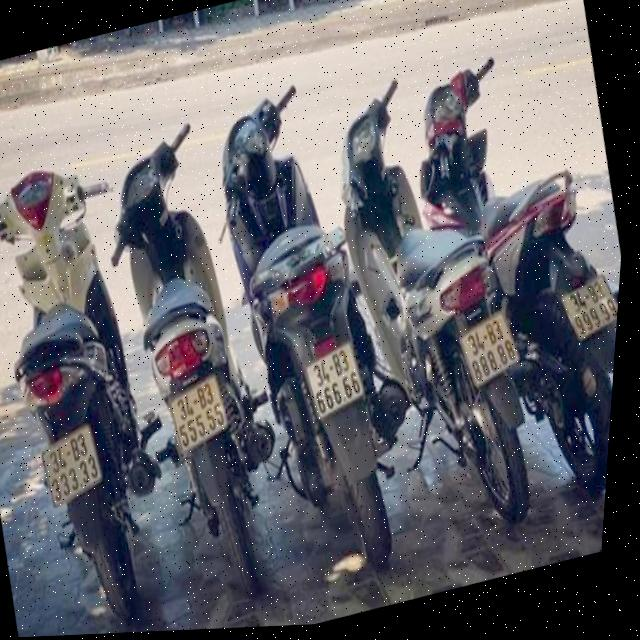motorcycle: (292, 27, 601, 581), (54, 67, 334, 636), (183, 45, 446, 604), (365, 13, 637, 538), (0, 133, 207, 640)
plate: (28, 414, 114, 514), (447, 296, 531, 395), (156, 365, 240, 462), (293, 330, 375, 428), (549, 260, 621, 349)
